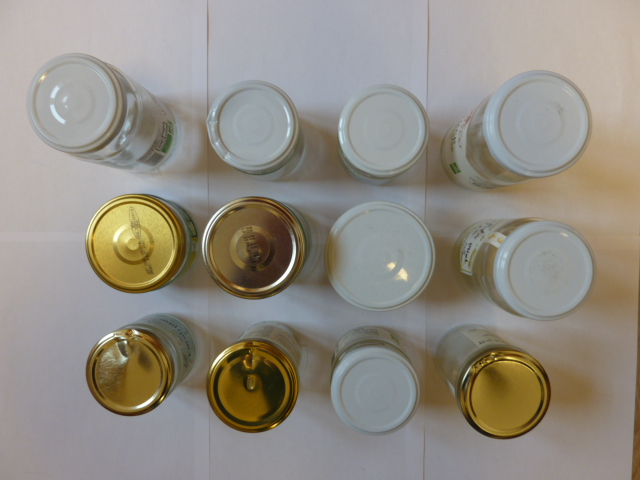damaged: (207, 338, 299, 434), (459, 349, 551, 441)
intact: (24, 54, 125, 154)
